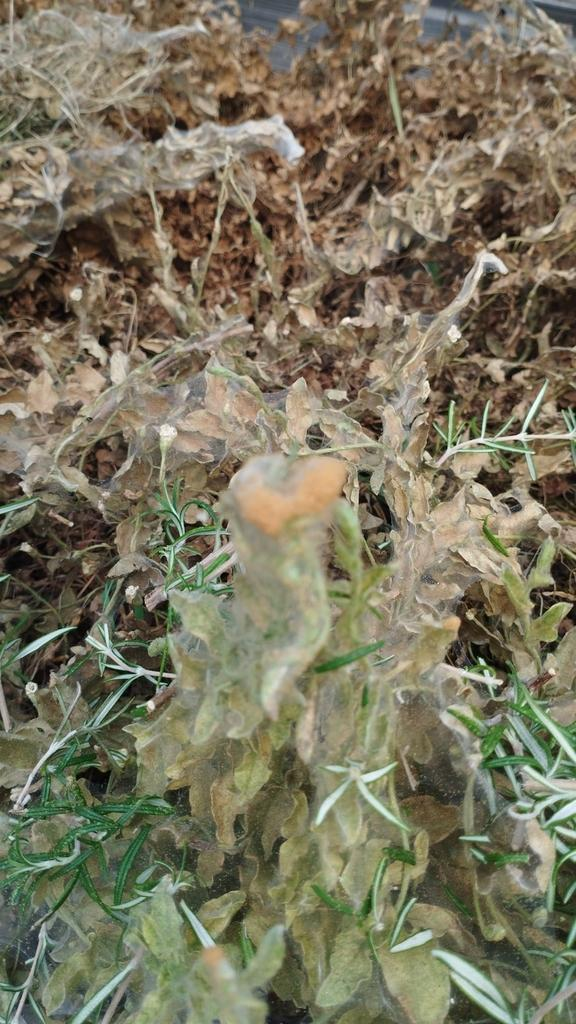tiny_pests: (198, 417, 351, 669)
